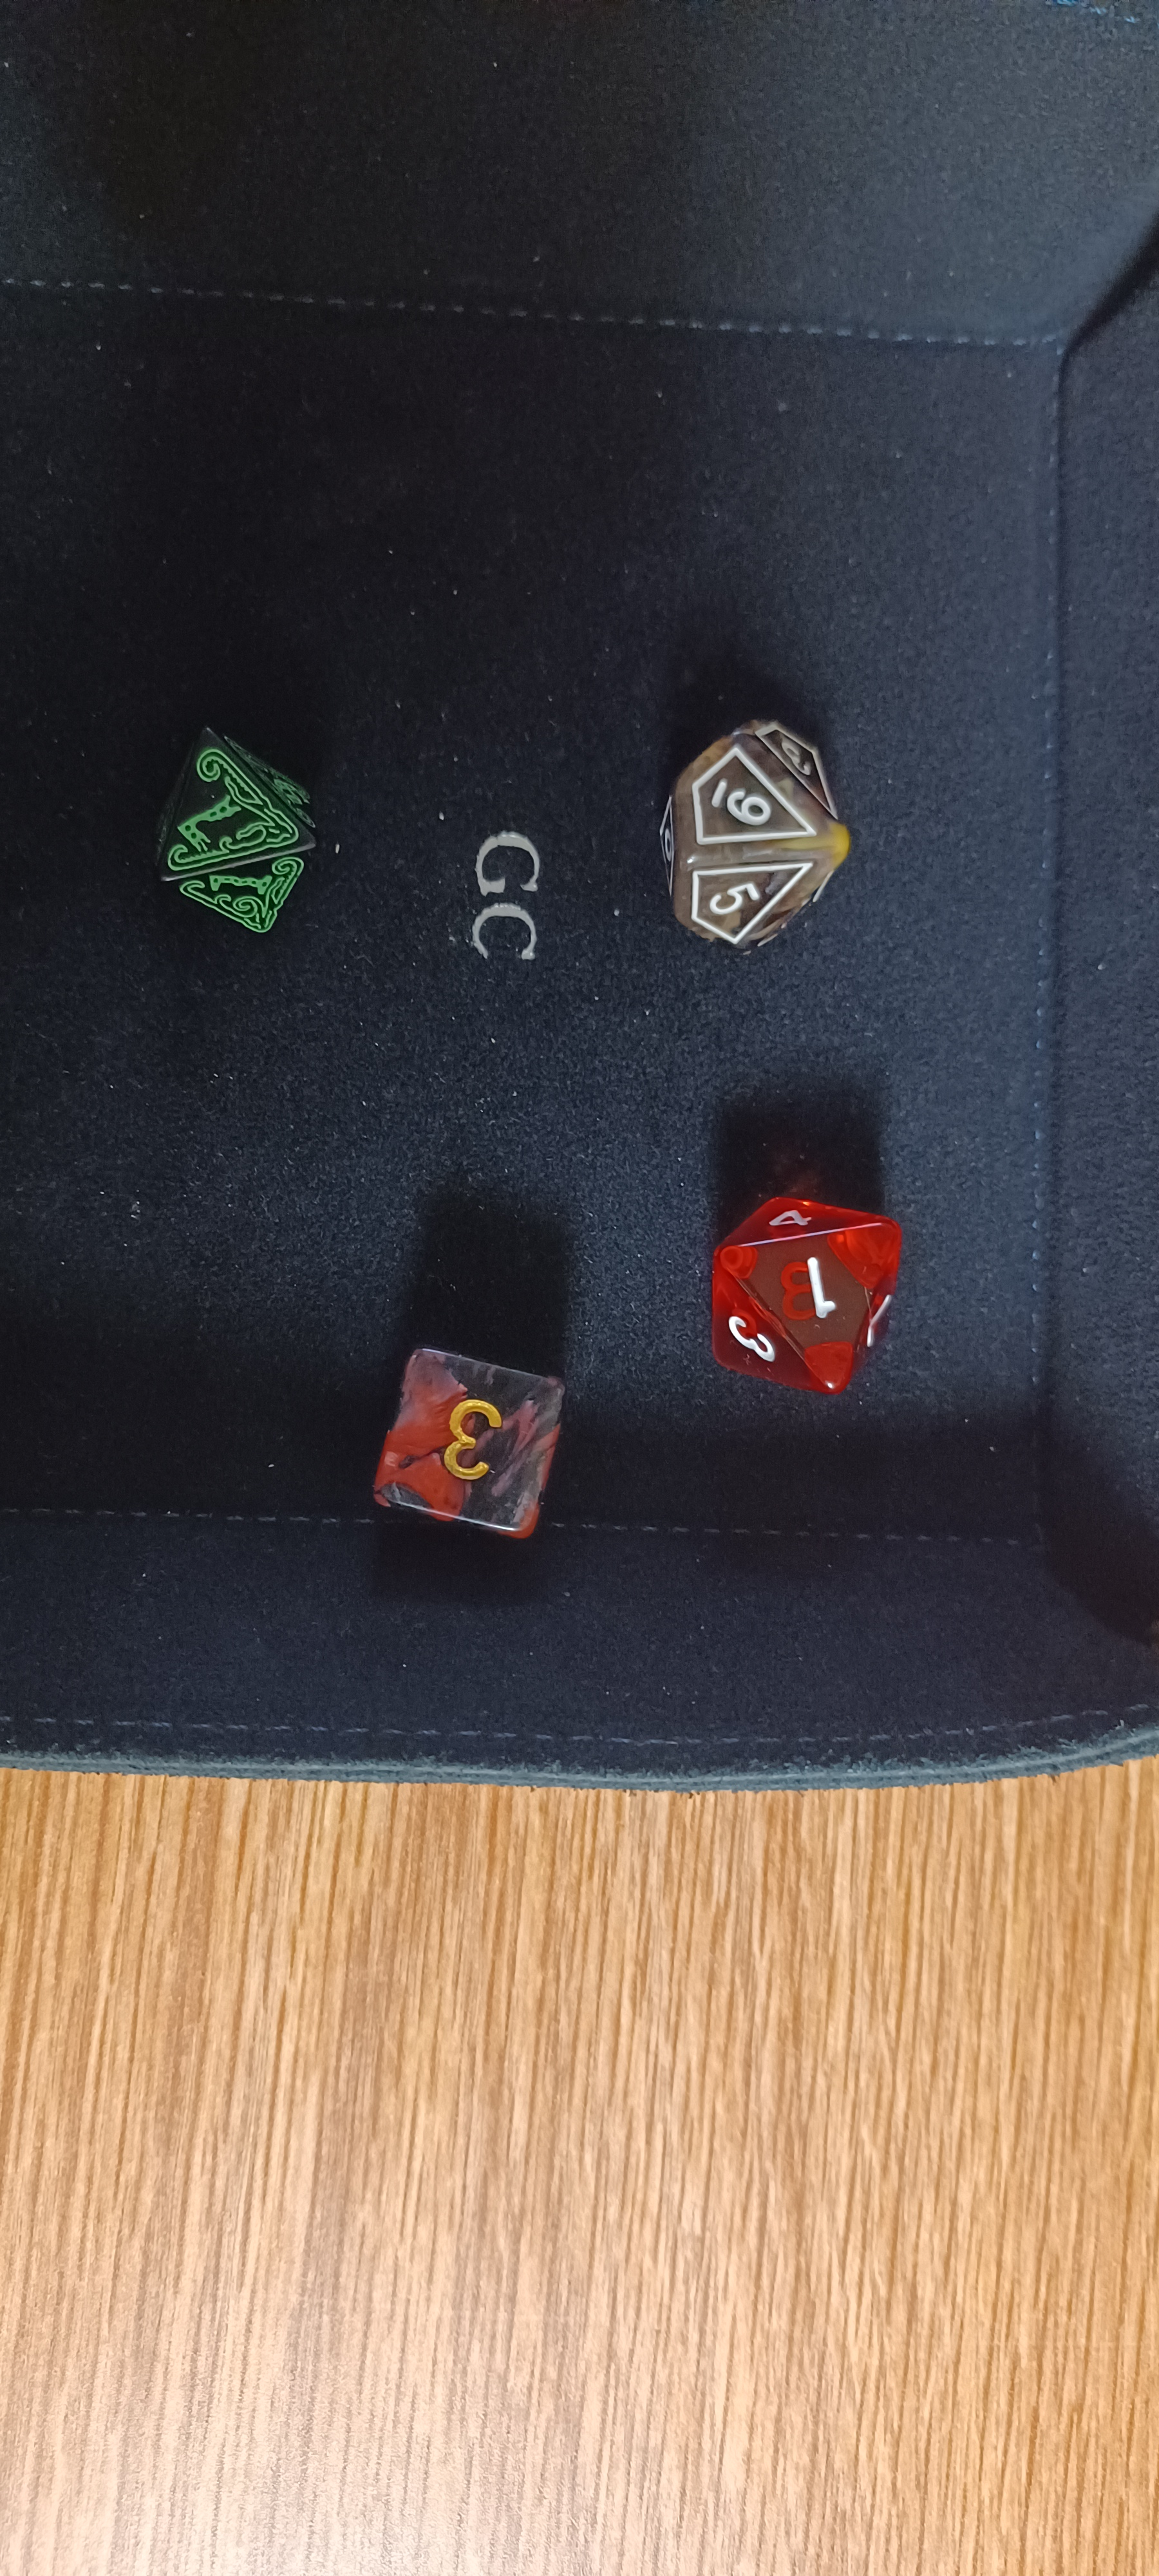nine: (609, 683, 895, 977)
one: (693, 1153, 928, 1436)
seven: (118, 701, 364, 979)
three: (295, 1290, 634, 1592)
